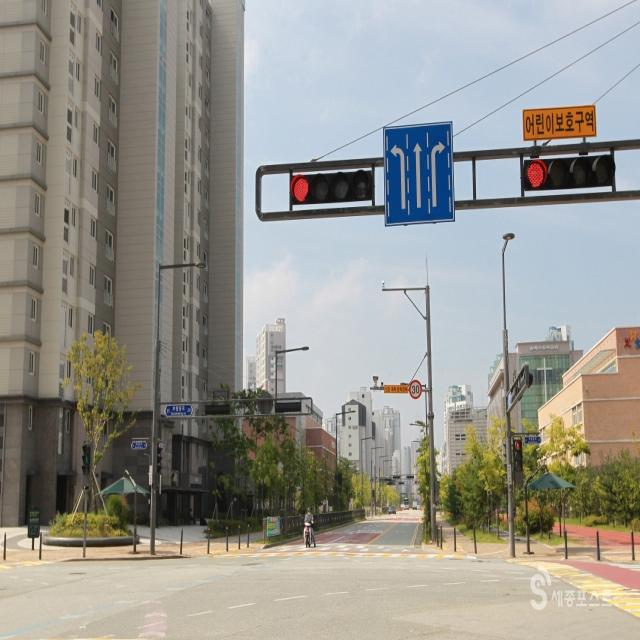Red Light: (526, 160, 546, 189), (292, 174, 310, 202)
